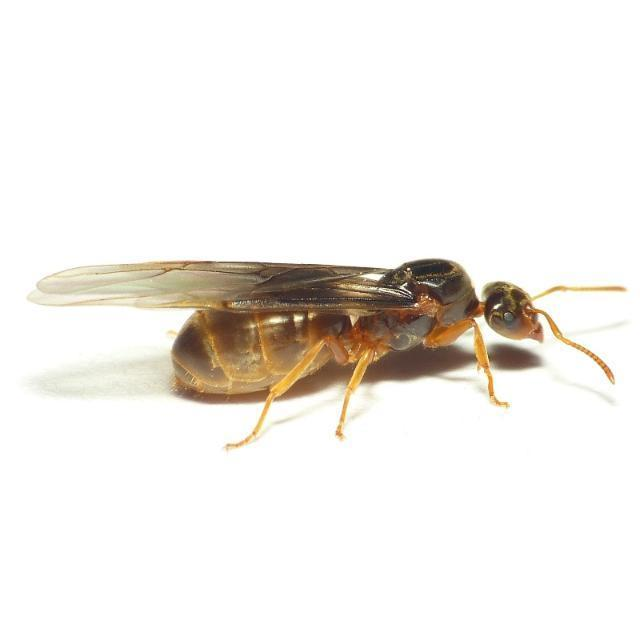Lasius: (106, 238, 616, 464)
